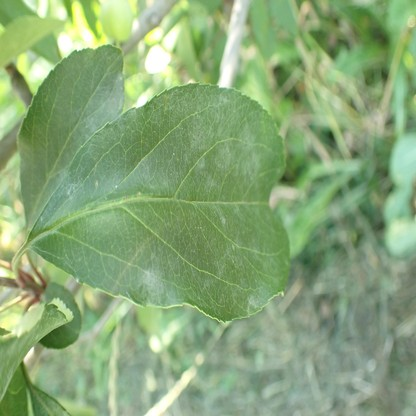powdery_mildew: (37, 84, 289, 319), (18, 43, 126, 221)
